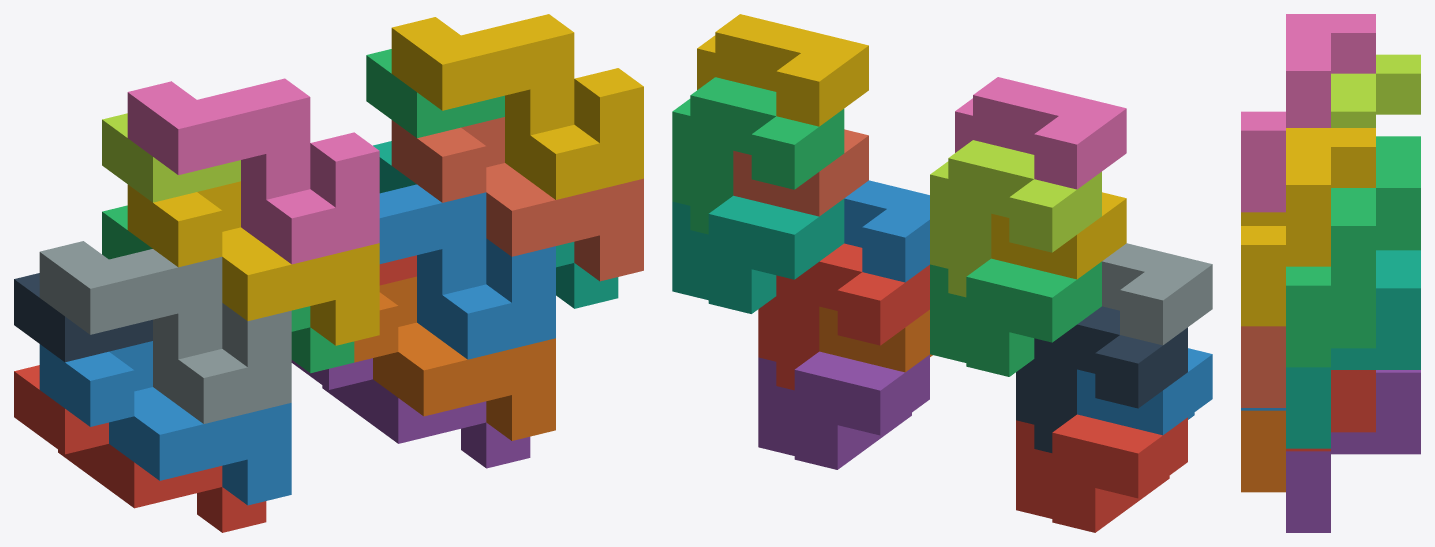
Rendered from tiling.obj.
3 views of the same model, side by side, from view 1: azimuth 30°, elevation 25°; view 2: azimuth 150°, elevation 25°; view 3: azimuth 270°, elevation 25° (orthographic). The views are drawn at different scales.
Parts seen in each view (by area): view 1: copy_2_domain_4, copy_2_domain_8, copy_2_domain_2, copy_2_domain_6, copy_1_domain_2, copy_1_domain_4, copy_1_domain_8, copy_1_domain_6, copy_1_domain_1, copy_1_domain_5, copy_2_domain_3, copy_2_domain_1 (+4 smaller); view 2: copy_2_domain_7, copy_2_domain_3, copy_1_domain_5, copy_1_domain_1, copy_1_domain_7, copy_1_domain_3, copy_2_domain_5, copy_2_domain_1, copy_2_domain_8, copy_2_domain_4, copy_2_domain_2, copy_2_domain_6 (+4 smaller); view 3: copy_2_domain_7, copy_2_domain_8, copy_2_domain_4, copy_1_domain_7, copy_1_domain_5, copy_2_domain_3, copy_1_domain_6, copy_1_domain_8, copy_2_domain_5, copy_1_domain_3, copy_1_domain_4.
Boxes of the visible parts, x1,y1,x2,y2 form: copy_2_domain_4: [127, 78, 379, 264]; copy_2_domain_8: [391, 14, 643, 199]; copy_2_domain_2: [39, 241, 291, 423]; copy_2_domain_6: [379, 184, 555, 359]; copy_1_domain_2: [39, 341, 291, 505]; copy_1_domain_4: [127, 181, 379, 345]; copy_1_domain_8: [391, 117, 643, 281]; copy_1_domain_6: [354, 276, 555, 440]; copy_1_domain_1: [14, 365, 266, 532]; copy_1_domain_5: [291, 358, 530, 468]; copy_2_domain_3: [102, 113, 240, 202]; copy_2_domain_1: [14, 273, 152, 362]; copy_2_domain_7: [672, 77, 844, 234]; copy_2_domain_3: [930, 140, 1101, 297]; copy_1_domain_5: [758, 351, 929, 469]; copy_1_domain_1: [1016, 414, 1187, 532]; copy_1_domain_7: [672, 195, 844, 313]; copy_1_domain_3: [930, 258, 1101, 376]; copy_2_domain_5: [758, 243, 929, 390]; copy_2_domain_1: [1016, 306, 1187, 452]; copy_2_domain_8: [697, 14, 868, 126]; copy_2_domain_4: [955, 77, 1126, 189]; copy_2_domain_2: [1102, 243, 1212, 345]; copy_2_domain_6: [844, 180, 929, 282]; copy_2_domain_7: [1286, 168, 1420, 367]; copy_2_domain_8: [1241, 128, 1375, 326]; copy_2_domain_4: [1241, 14, 1375, 212]; copy_1_domain_7: [1286, 250, 1420, 448]; copy_1_domain_5: [1286, 370, 1420, 532]; copy_2_domain_3: [1331, 54, 1420, 127]; copy_1_domain_6: [1241, 410, 1285, 492]; copy_1_domain_8: [1241, 326, 1285, 407]; copy_2_domain_5: [1286, 370, 1375, 451]; copy_1_domain_3: [1376, 136, 1420, 250]; copy_1_domain_4: [1241, 212, 1285, 225].
Bounding box in the file's own units: 12 × 9 × 4.
